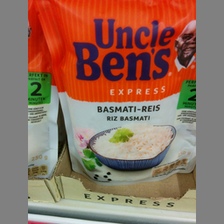rice: (34, 1, 195, 184)
